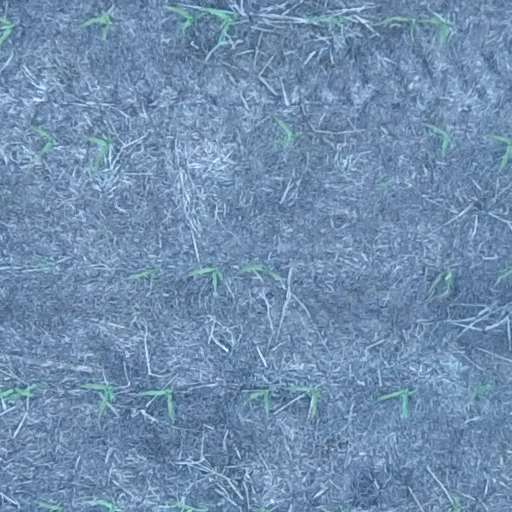planta: (199, 6, 235, 44), (81, 381, 116, 418), (141, 387, 177, 422), (188, 266, 225, 293), (80, 11, 114, 38), (88, 136, 111, 174), (289, 385, 322, 411), (379, 388, 412, 414), (417, 17, 450, 42), (234, 263, 281, 280), (428, 269, 455, 298), (426, 123, 452, 153), (30, 124, 56, 154), (275, 116, 299, 147), (170, 5, 195, 32), (245, 387, 273, 410), (308, 14, 348, 30), (373, 16, 415, 26), (128, 267, 159, 280)
